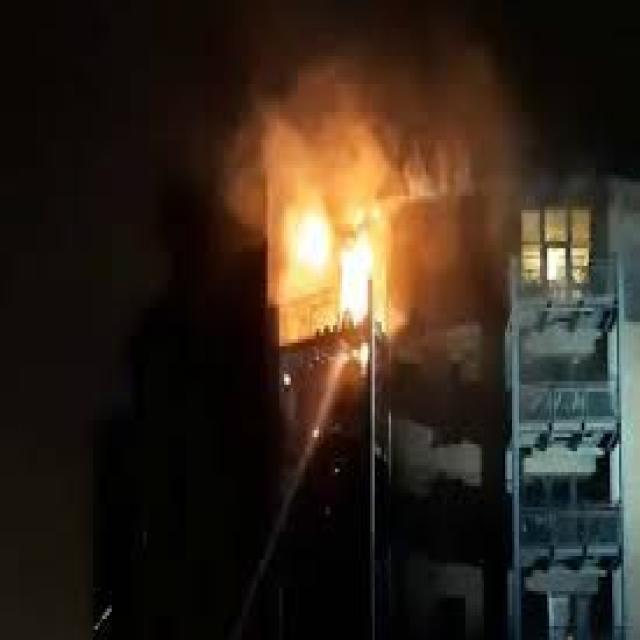Smoke: (239, 83, 469, 350)
